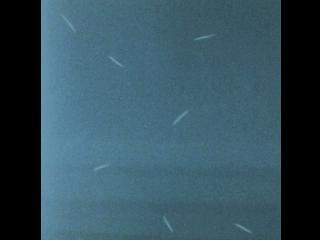scratch: (56, 10, 83, 38), (168, 104, 192, 133), (190, 28, 220, 46), (90, 157, 113, 178), (156, 212, 176, 234), (229, 220, 256, 236), (106, 53, 130, 71)
